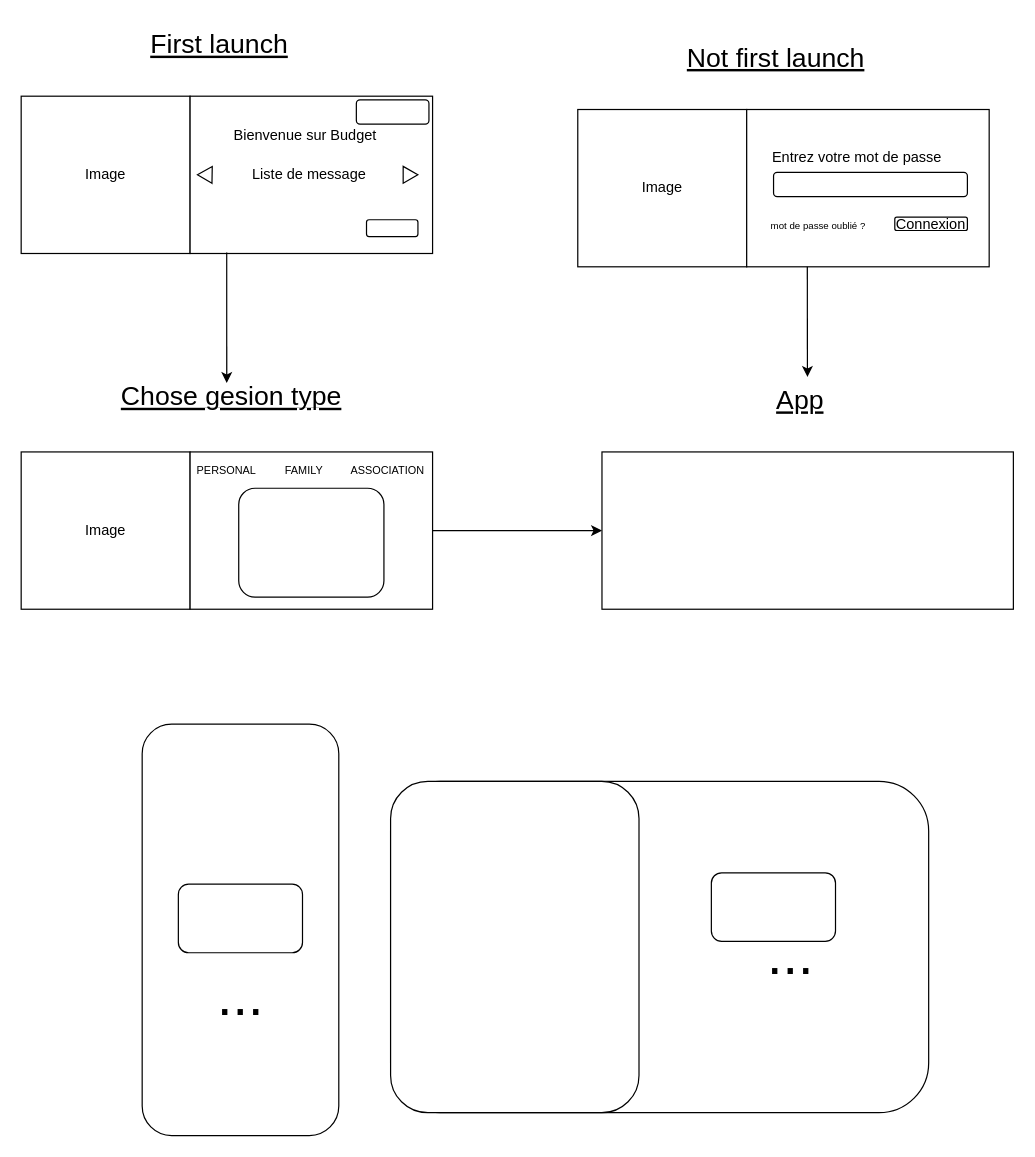
This 1035x1157 diagram has some shape labels left out. The shapes that lost their labels are listed below. From the top down, each one's centre as x and y in pixels, then its label:
[392,111]: Français
[391,228]: Next
